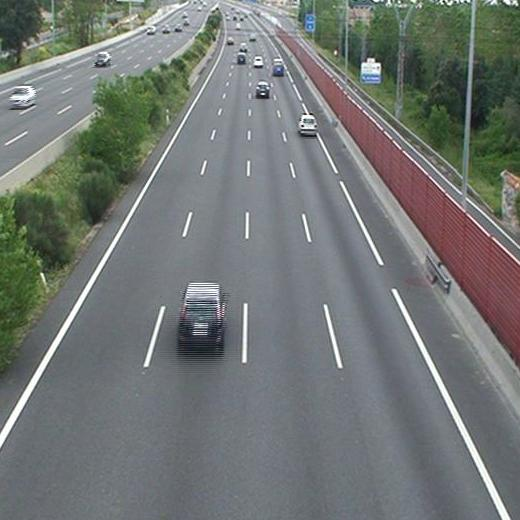car: (177, 284, 223, 342), (299, 116, 317, 134), (255, 82, 271, 98), (253, 56, 263, 68), (236, 53, 246, 64), (240, 42, 247, 53), (226, 38, 234, 45)
van: (273, 59, 284, 74)
